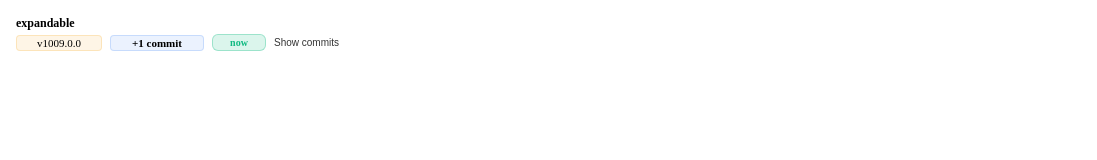
Scenario: UntagTab › expands and collapses the commit list on click, flipping the button label
The image size is (1097, 160).
Expected: the text "expandable" is shown, [16, 16, 75, 30]
Click the button "Show commits". click: (306, 42)
box: [274, 37, 339, 48]
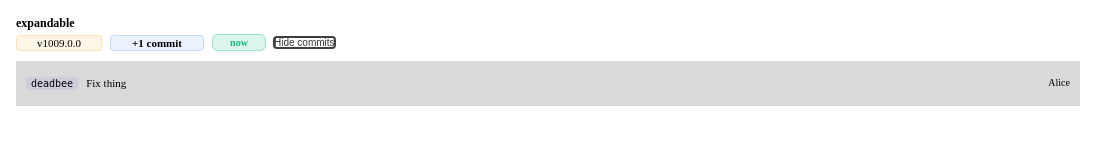
Now the button "Hide commits" is shown
Now the button "Show commits" is gone
Click the button "Hide commits". click: (304, 42)
box: [274, 37, 335, 48]
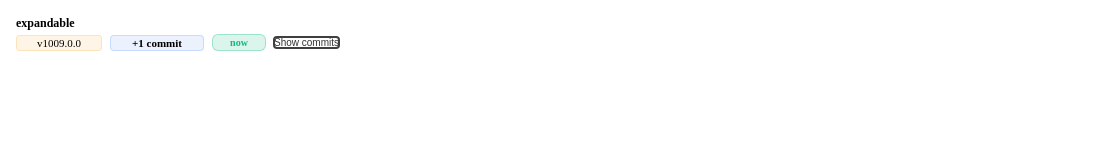
Now the button "Show commits" is shown, box [274, 37, 339, 48]
Now the button "Hide commits" is gone
